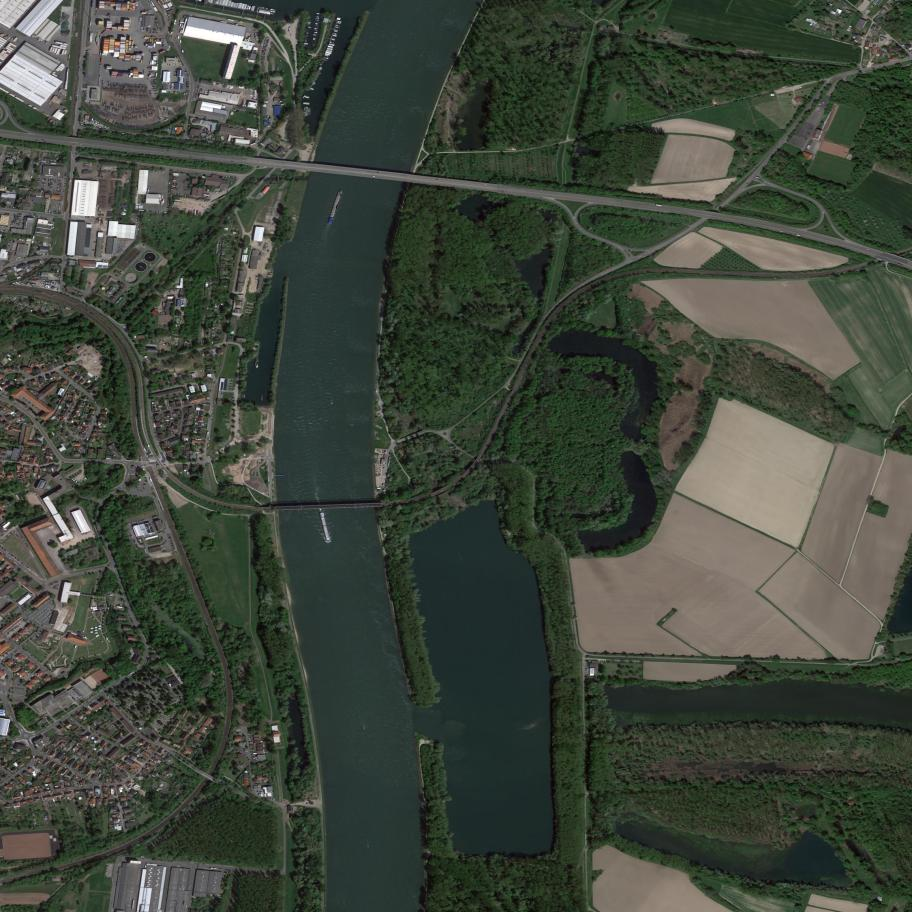ship: (325, 188, 345, 226), (319, 512, 331, 542), (270, 8, 276, 11), (248, 6, 251, 10), (271, 11, 276, 13)
